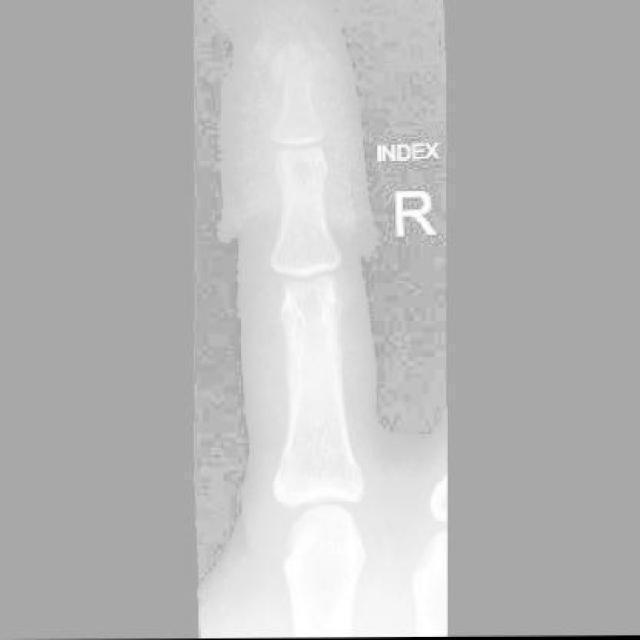Fracture: (265, 38, 318, 88)
